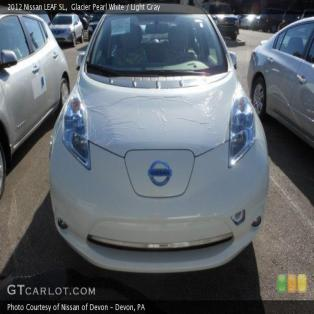Auto: (48, 0, 271, 276)
